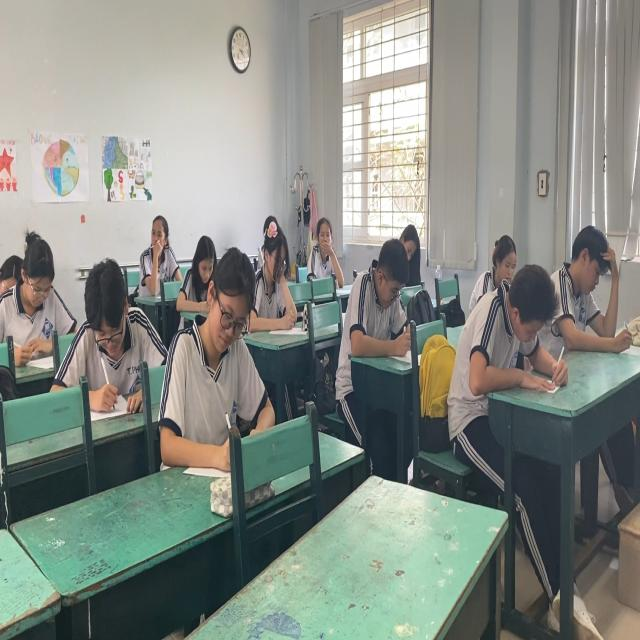not_cheating: (196, 247, 263, 432), (474, 257, 559, 395), (555, 221, 639, 359), (0, 224, 74, 360), (63, 266, 143, 372), (351, 240, 409, 360), (248, 218, 300, 329), (133, 214, 183, 278), (306, 208, 344, 276), (483, 233, 520, 287), (185, 234, 216, 283), (396, 217, 415, 260)
